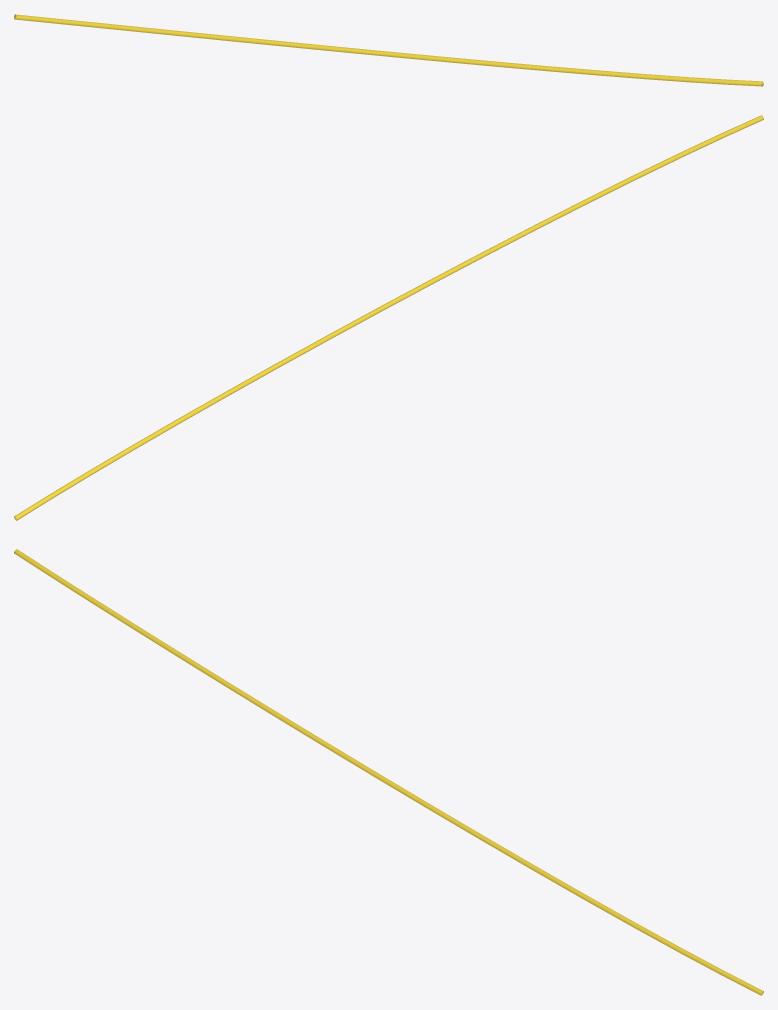
Rendered from Event_40932208_track_0.fbx.
The picture shows the model from 3 angles, top to bottom: view 1: azimuth 30°, elevation 25°; view 2: azimuth 210°, elevation 25°; view 3: azimuth 330°, elevation 25°; orthographic projection. The views are drawn at different scales.
Parts seen in each view (by area): view 1: Model; view 2: Model; view 3: Model.
Boxes of the visible parts, box(x1,y1,x2,y2) form: Model: box(14, 14, 763, 86); Model: box(14, 115, 763, 520); Model: box(14, 549, 763, 995).
Bounding box in the file's own units: 6.48 × 2.02 × 0.3316.
